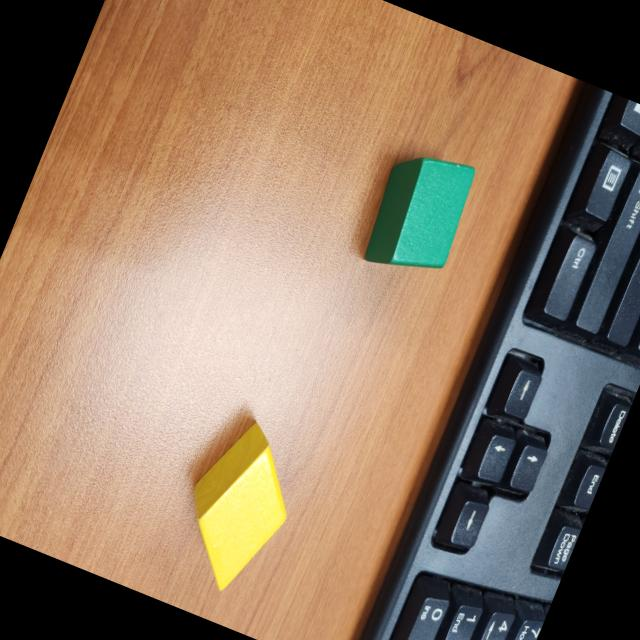green: (352, 135, 484, 291)
yellow: (158, 410, 314, 606)
